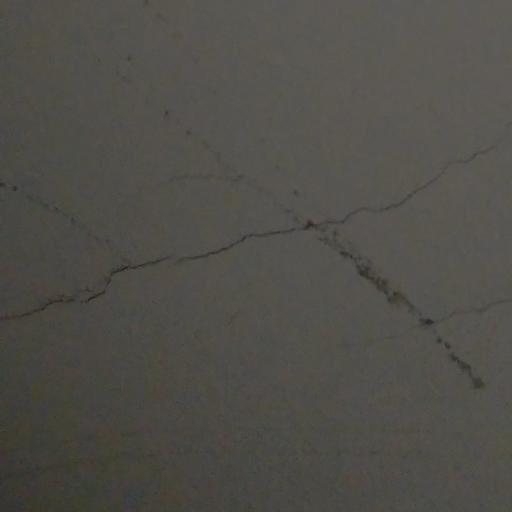minor_crack: (4, 101, 512, 390)
